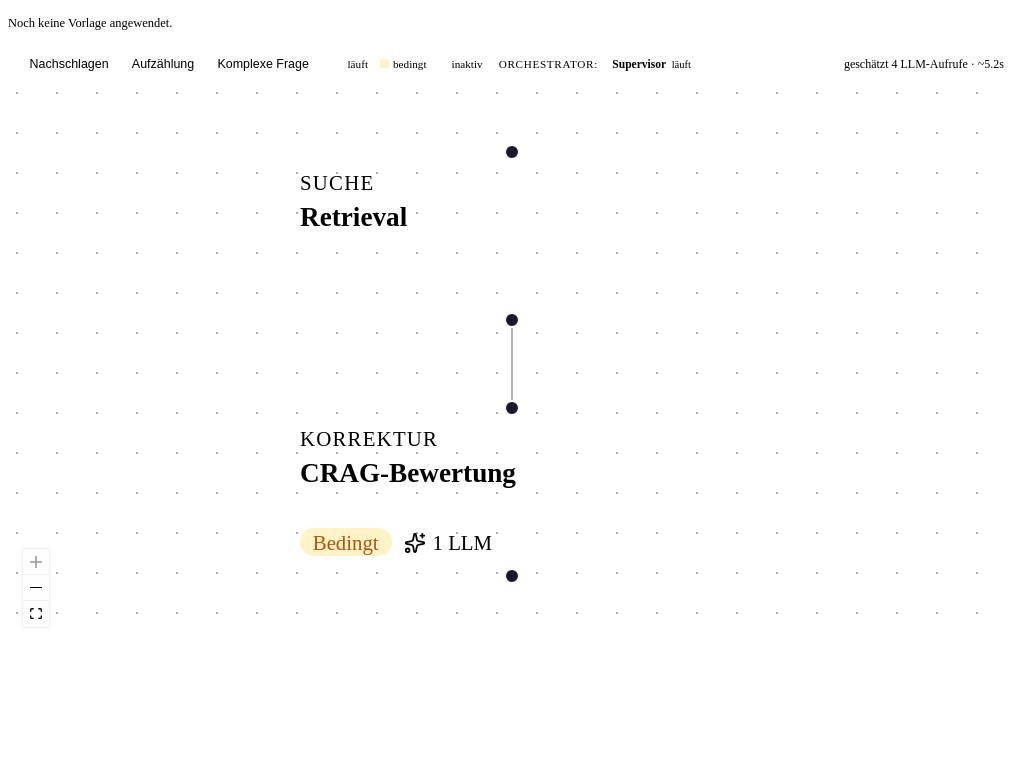
Test: WorkflowCanvas › opens the inspector when a node is clicked
Click the element with test id "wf-node-crag_grade". click: (369, 438)
box: top-left (300, 400), bottom-right (520, 584)
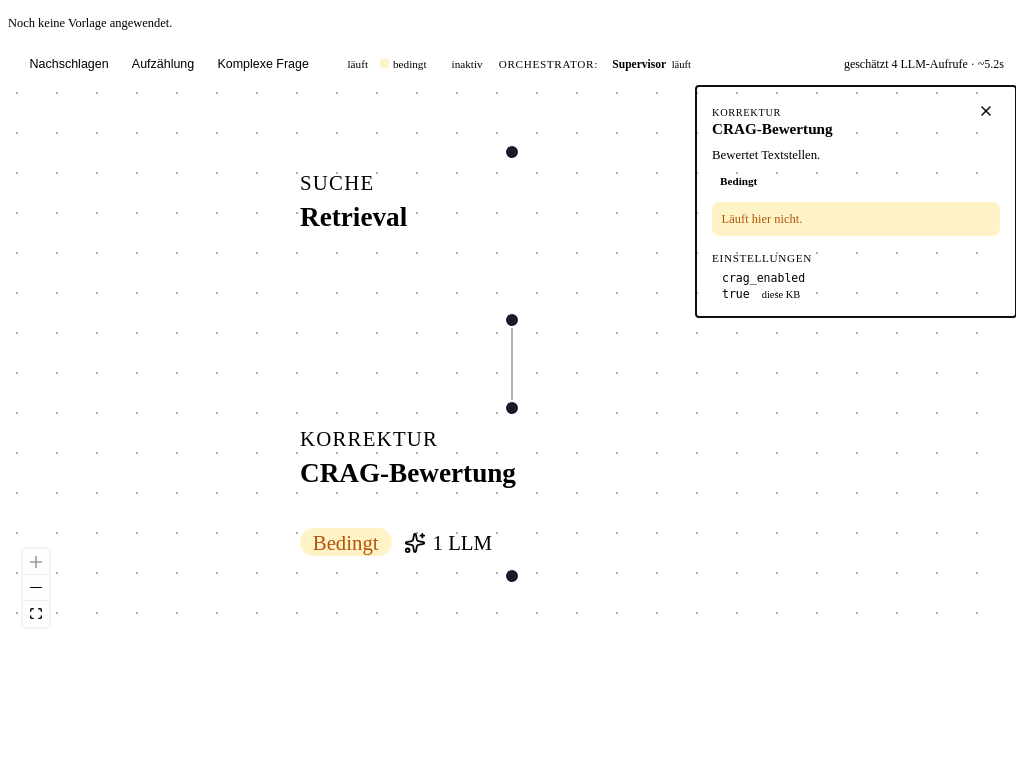
Expected: the text "Läuft hier nicht." is shown, top-left (712, 202), bottom-right (1000, 236)
